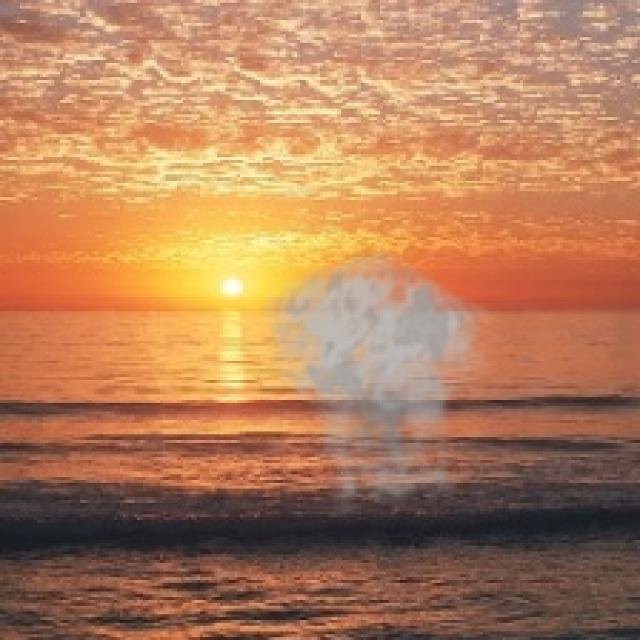Smoke: (260, 248, 500, 520)
